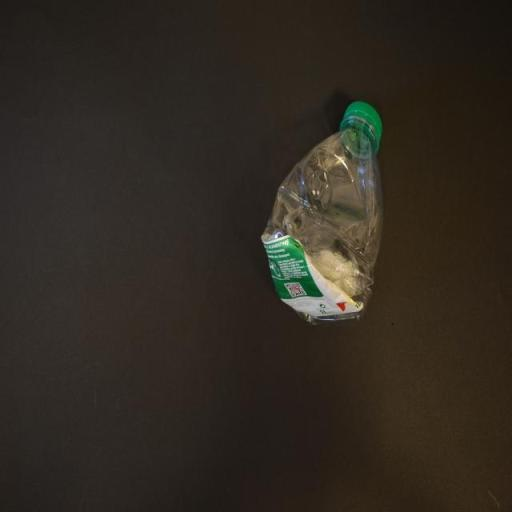plastic: (260, 99, 389, 326)
